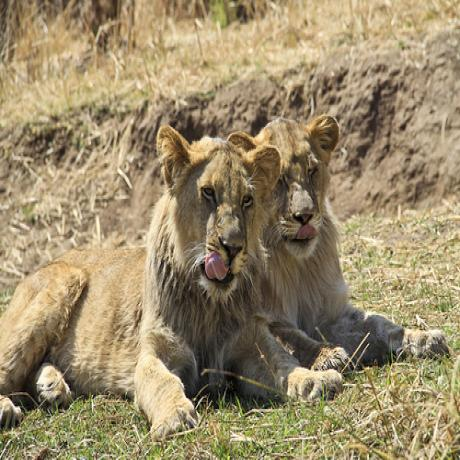Lion: (0, 126, 282, 433), (267, 114, 447, 368)
